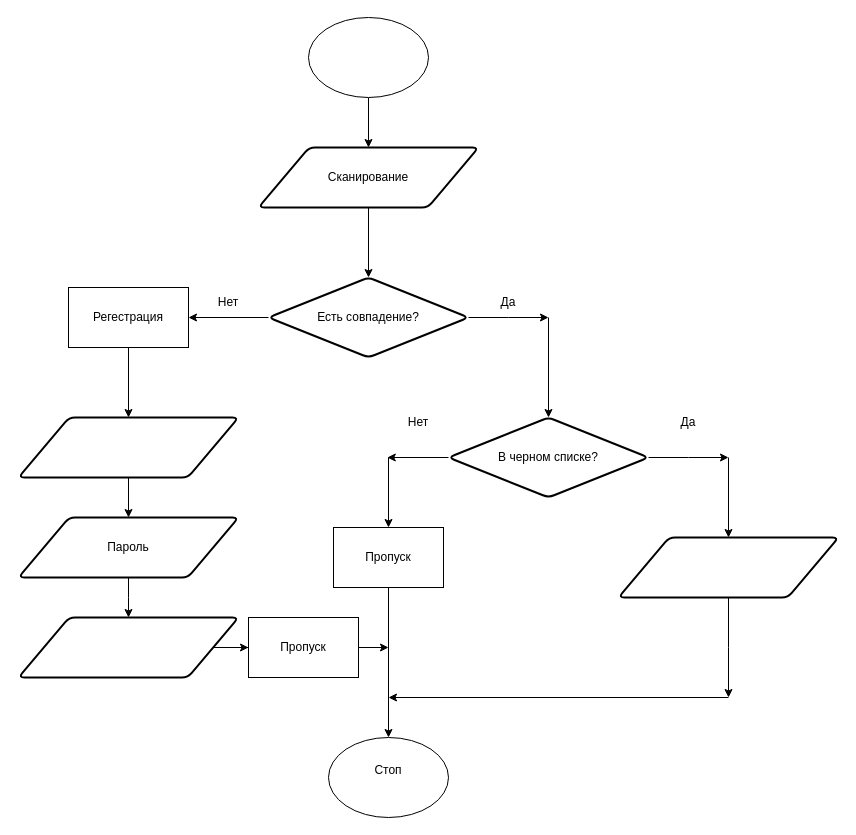
Image size: 856x835. Some labels were removed from this diagram. The centre of each missing label's shape, as x and y in pixels:
"Имя пользователя" goes at point (128, 447).
"Отказано в доступе" goes at point (728, 567).
"Старт" goes at point (368, 57).
"Учетная запись создана" goes at point (128, 647).
